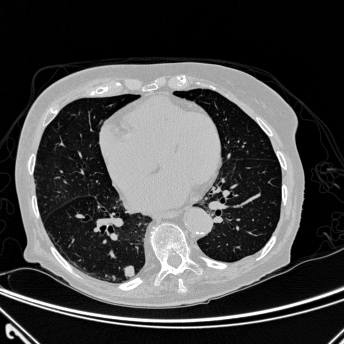nodule: (123, 264, 137, 278)
